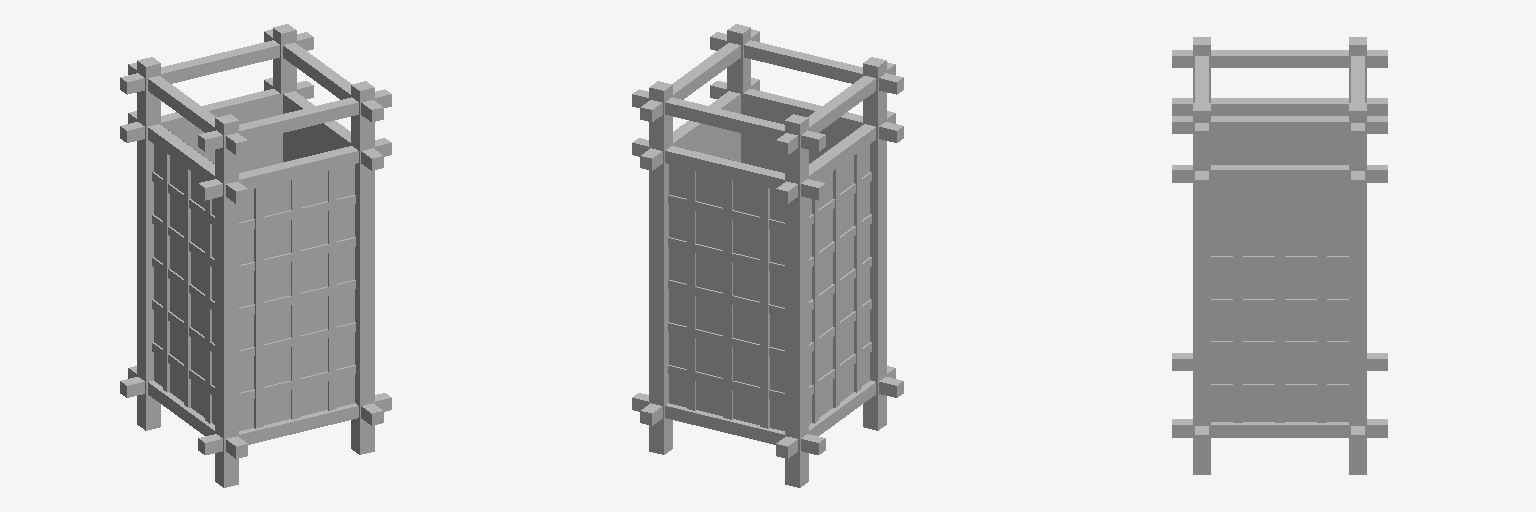
The model's file is lamp.obj.
3 views of the same model, side by side, from view 1: azimuth 30°, elevation 25°; view 2: azimuth 150°, elevation 25°; view 3: azimuth 270°, elevation 25° (orthographic).
Visible parts, largest first — view 1: SmallLamp001_Cube.001_Cube.000; view 2: SmallLamp001_Cube.001_Cube.000; view 3: SmallLamp001_Cube.001_Cube.000.
Boxes of the visible parts, x1,y1,x2,y2 form: SmallLamp001_Cube.001_Cube.000: [120, 24, 391, 487]; SmallLamp001_Cube.001_Cube.000: [632, 24, 903, 487]; SmallLamp001_Cube.001_Cube.000: [1172, 37, 1387, 474].
Bounding box in the file's own units: 2.76 × 5.14 × 2.76.